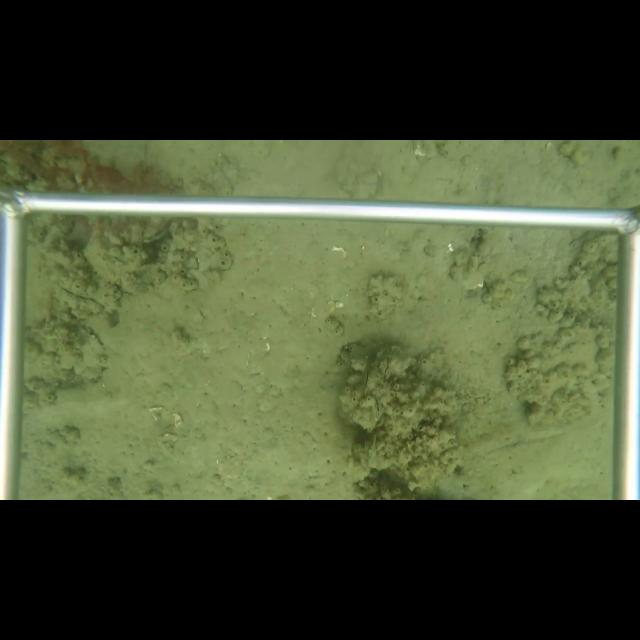Oyster-Closed: (28, 314, 109, 386)
Oyster-Open: (140, 218, 169, 243)
